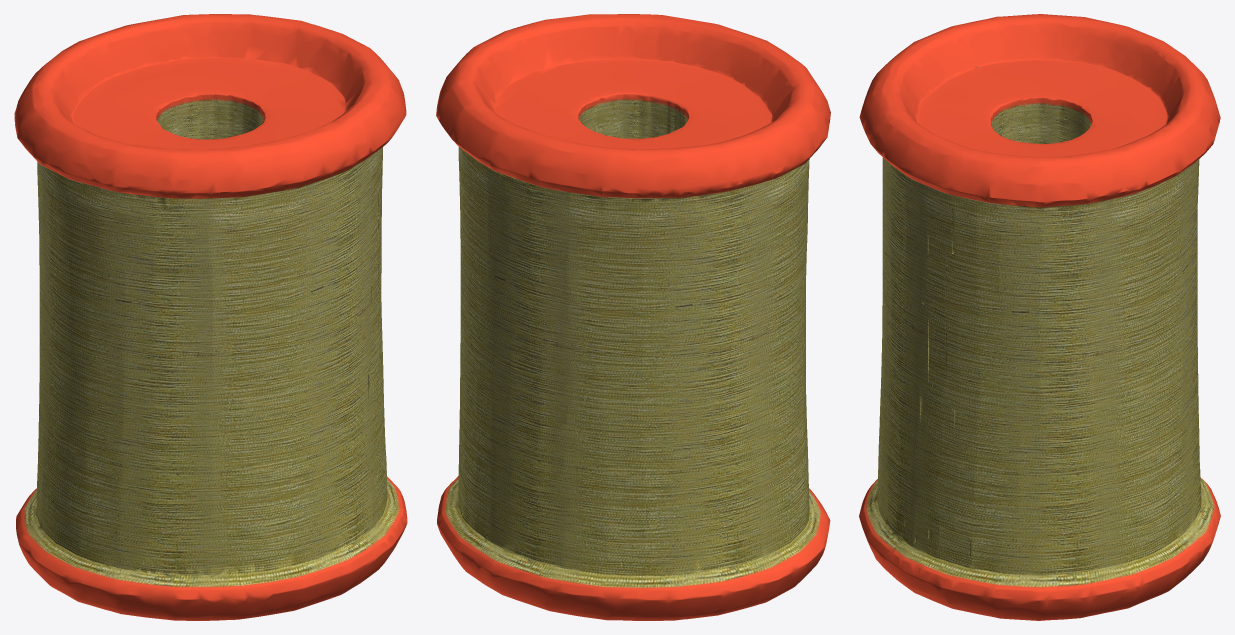
The model's file is radium-silk-fast.glb.
The picture shows the model from 3 angles, left to right: view 1: azimuth 30°, elevation 25°; view 2: azimuth 150°, elevation 25°; view 3: azimuth 270°, elevation 25°; orthographic projection. The views are drawn at different scales.
Parts seen in each view (by area): view 1: world; view 2: world; view 3: world.
Boxes of the visible parts, box(x1,y1,x2,y2) form: world: box(14, 14, 407, 620); world: box(436, 14, 830, 620); world: box(859, 14, 1220, 620).
Size of the model in its own units: 0.7868 by 1 by 0.7176.
Materials: 2 (1 with a texture image).
